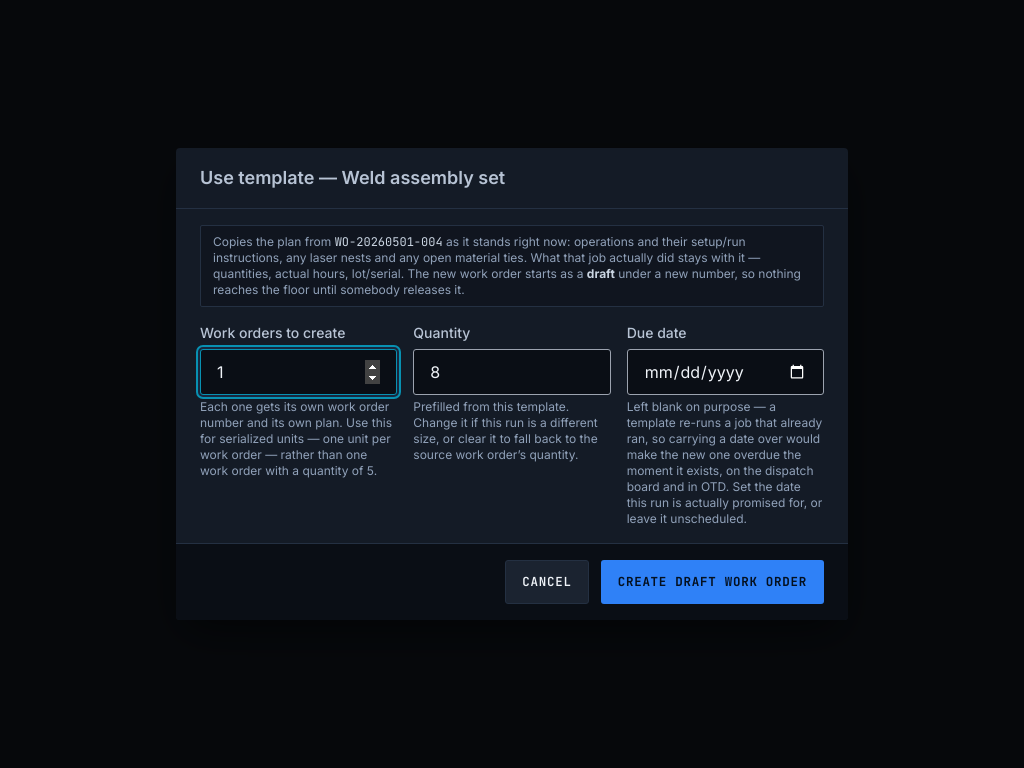
Scenario: UseTemplateModal: a single use is byte-for-byte what it always was › still toasts, hands over and closes on one copy
Click the button "Create draft work order" at point(712, 582), box [601,560,824,604]
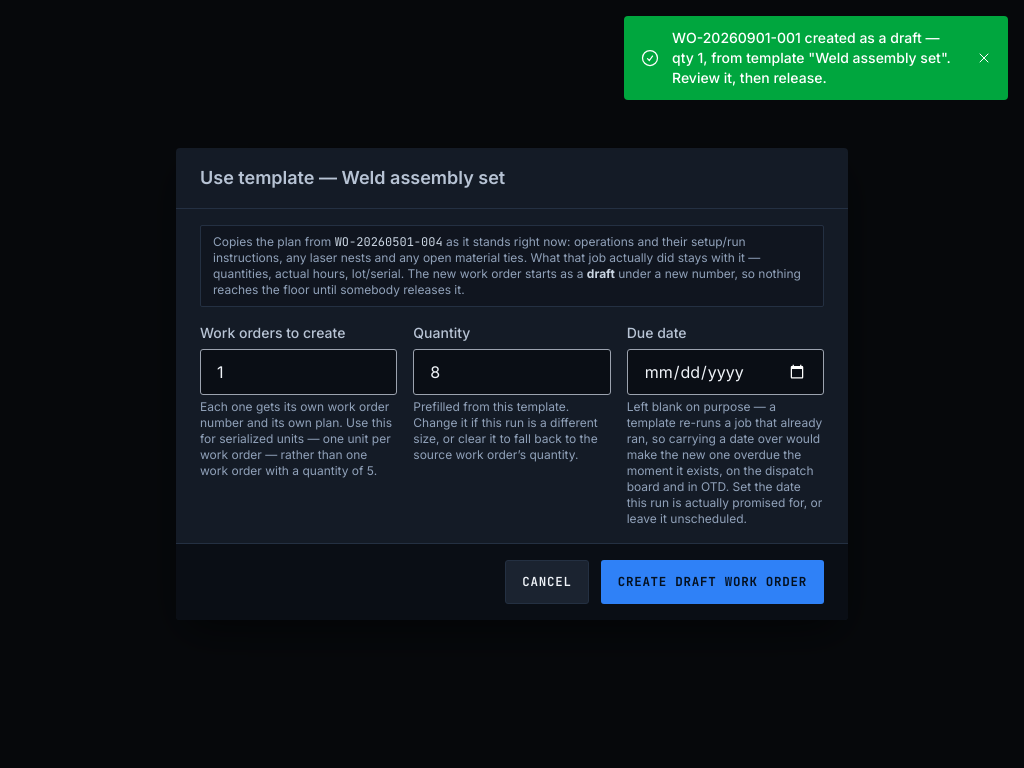
Check: the text "WO-20260901-001 created as a draft" is shown, box [672,29,951,86]
